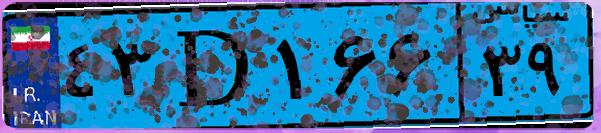1: (270, 28, 330, 110)
3: (475, 38, 525, 113), (110, 28, 158, 98)
4: (57, 26, 110, 100)
6: (385, 28, 445, 110), (330, 28, 385, 110)
9: (525, 38, 570, 115)
D: (158, 12, 270, 120)
